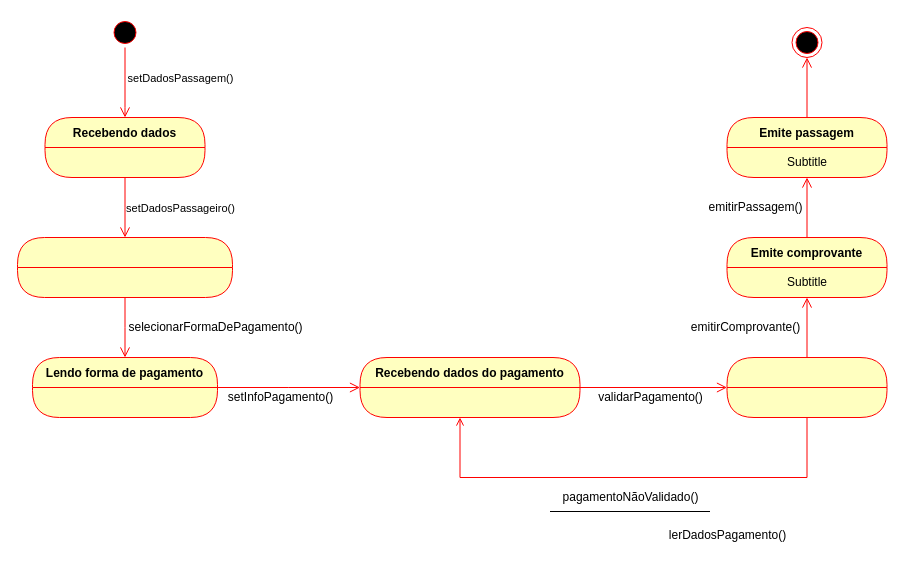
Some shapes in this 905 by 563 pixel diagram are drawn without their labels. The shapes that lost their labels are listed below. From the top down, each one's centre as x and y in pixels, then its label:
the point at 124,267: Recebendo dados passgeiro
the point at 806,387: Validando pagamento
